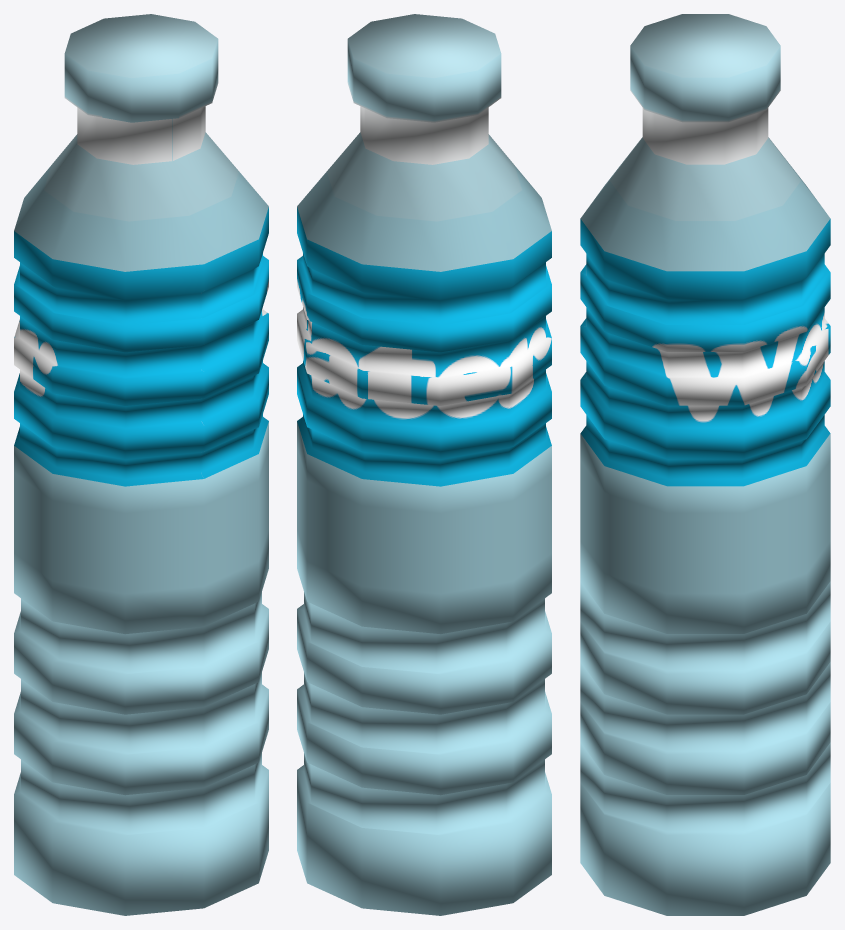
Rendered from bottle.fbx.
3 views of the same model, side by side, from view 1: azimuth 30°, elevation 25°; view 2: azimuth 150°, elevation 25°; view 3: azimuth 270°, elevation 25° (orthographic).
Visible parts, largest first — view 1: Cylinder; view 2: Cylinder; view 3: Cylinder.
Part boxes in pixels (x1=…): Cylinder: x1=14, y1=14, x2=268, y2=915; Cylinder: x1=297, y1=14, x2=551, y2=915; Cylinder: x1=580, y1=14, x2=830, y2=915.
Size of the model in its own units: 6.35 by 22.9 by 6.35.
Materials: 1 (1 with a texture image).
